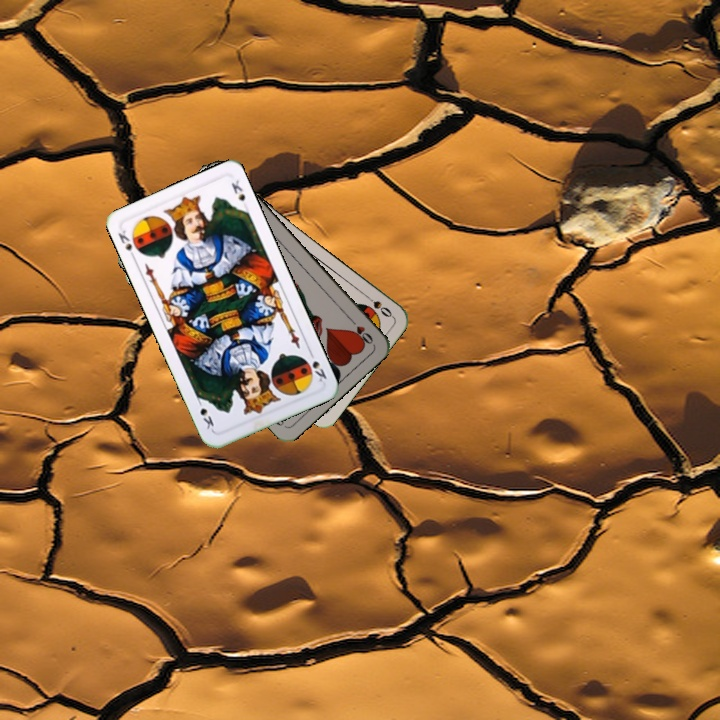HO: (344, 313, 376, 347)
SK: (305, 346, 329, 385), (114, 226, 139, 263)
SO: (361, 290, 396, 320)
